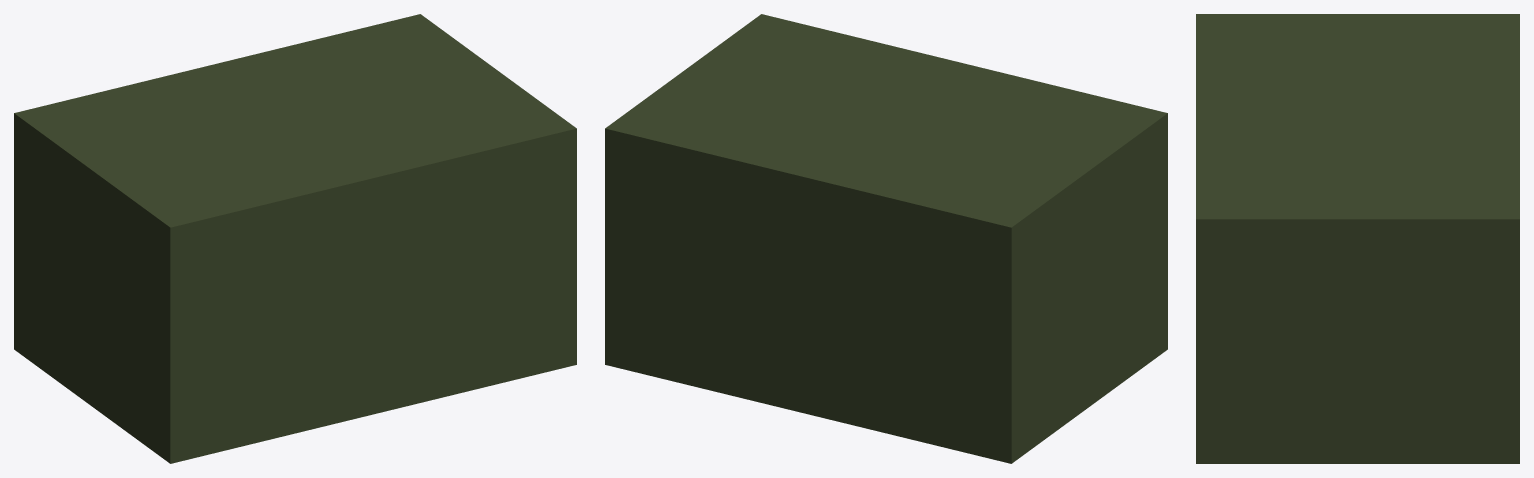
File: pistol_ammo.glb
The picture shows the model from 3 angles, left to right: view 1: azimuth 30°, elevation 25°; view 2: azimuth 150°, elevation 25°; view 3: azimuth 270°, elevation 25°; orthographic projection. The views are drawn at different scales.
Parts seen in each view (by area): view 1: pistol_ammo; view 2: pistol_ammo; view 3: pistol_ammo.
Part boxes in pixels (<box>): pistol_ammo: <box>14,14,576,463</box>; pistol_ammo: <box>605,14,1167,463</box>; pistol_ammo: <box>1196,14,1519,463</box>.
Bounding box in the file's own units: 0.09 × 0.05 × 0.06.
